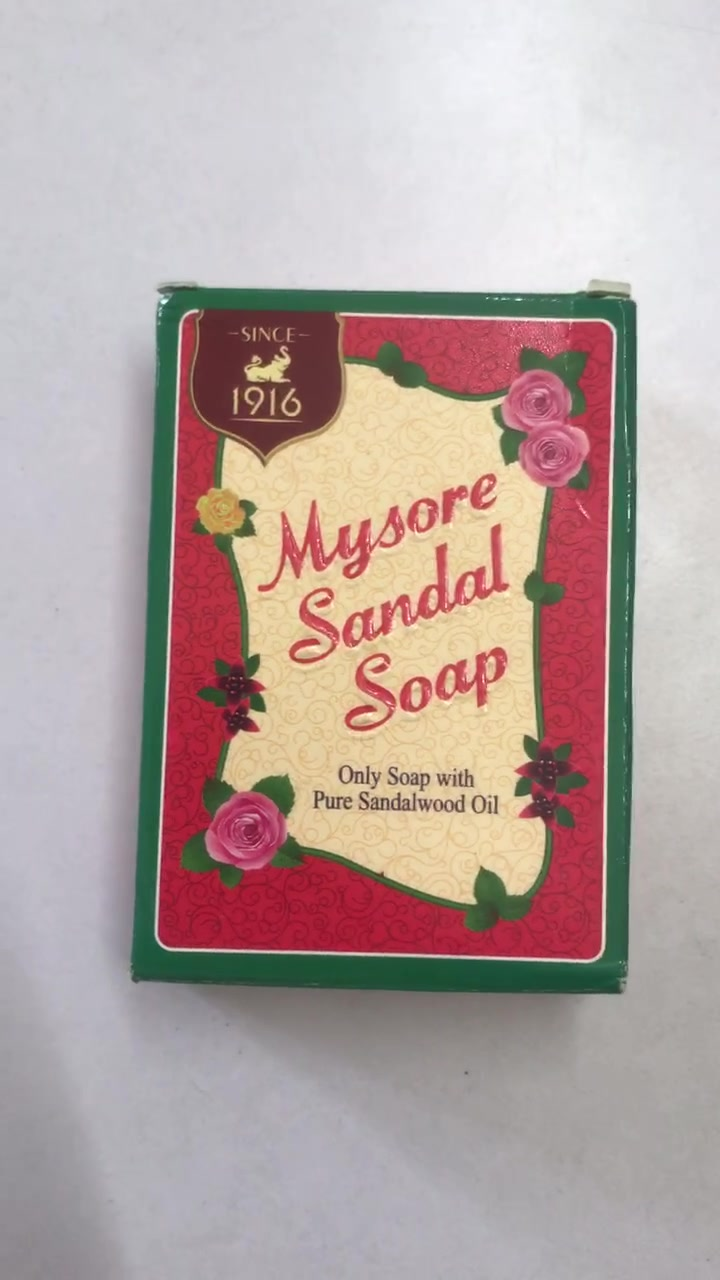mysore sandal soap: (130, 280, 638, 999)
